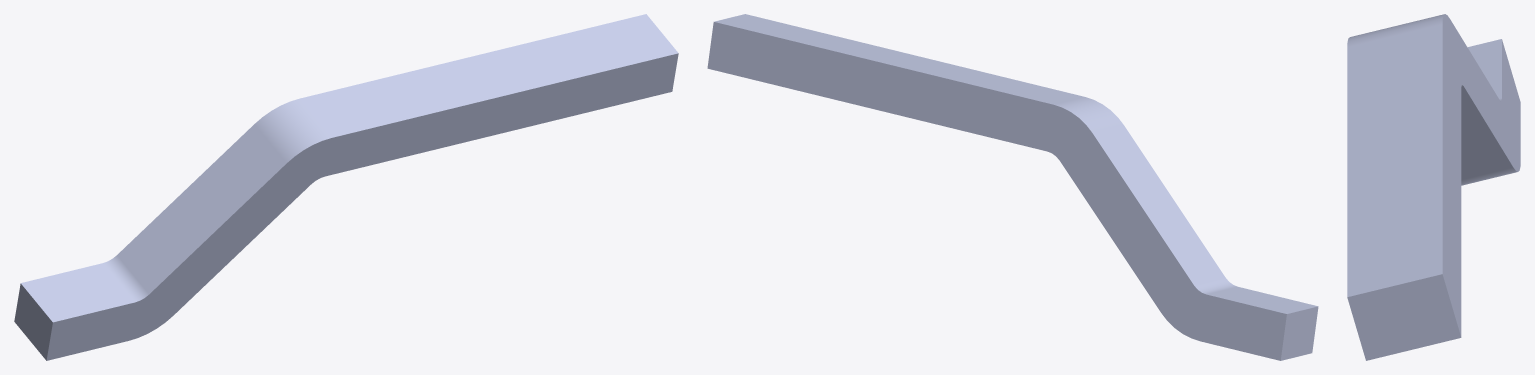
Rendered from body18_visual.obj.
The picture shows the model from 3 angles, left to right: view 1: azimuth 30°, elevation 25°; view 2: azimuth 150°, elevation 25°; view 3: azimuth 270°, elevation 25°; orthographic projection. The views are drawn at different scales.
Parts seen in each view (by area): view 1: Body18; view 2: Body18; view 3: Body18.
Boxes of the visible parts, bbox=[...] form: Body18: bbox=[14, 14, 678, 360]; Body18: bbox=[707, 14, 1318, 360]; Body18: bbox=[1347, 14, 1520, 360].
Bounding box in the file's own units: 0.7375 × 0.2269 × 0.124.
